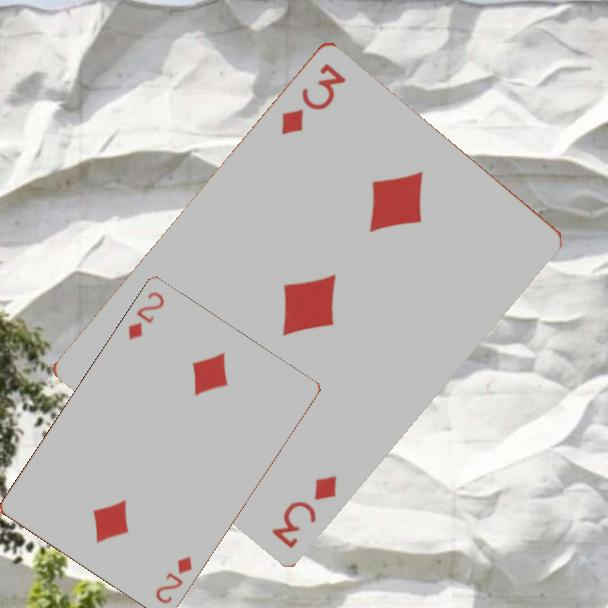d02: (152, 553, 195, 607), (125, 289, 167, 343)
d03: (268, 470, 340, 551), (277, 59, 349, 137)
